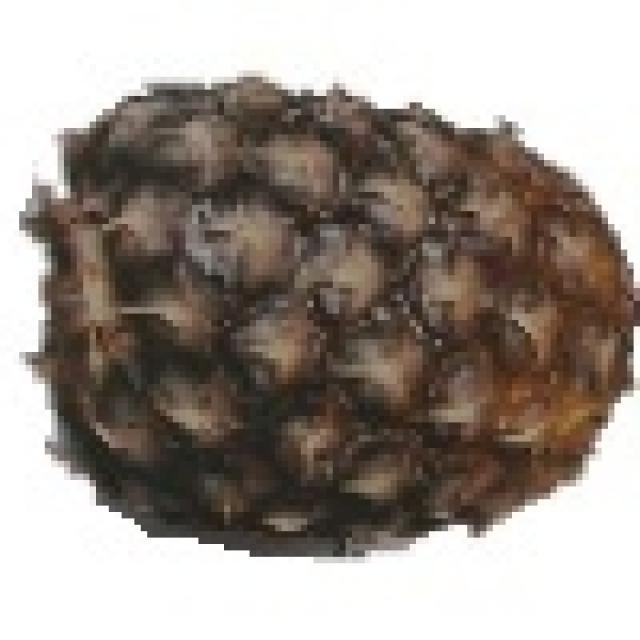pineapple: (32, 70, 640, 538)
